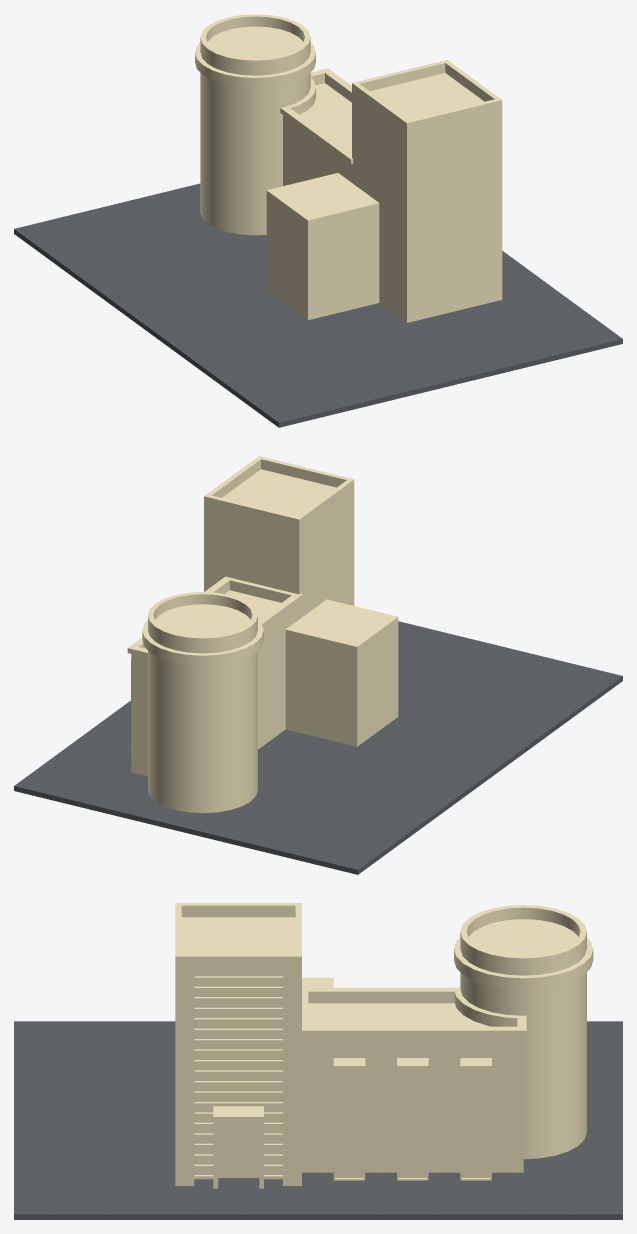
The picture shows the model from 3 angles, top to bottom: view 1: azimuth 30°, elevation 25°; view 2: azimuth 150°, elevation 25°; view 3: azimuth 270°, elevation 25°; orthographic projection. The views are drawn at different scales.
Parts seen in each view (by area): view 1: 19394, 16845, 16916, 16855, 16865; view 2: 19394, 16916, 16845, 16855, 16865; view 3: 19394, 16865, 16845, 16916, Component#2 (×3), 17632, 17606, 17608, 17610, 17611, 17612, 17613 (+4 smaller).
Part boxes in pixels (x1=…): 19394: x1=14, y1=183, x2=622, y2=427; 16845: x1=352, y1=60, x2=502, y2=322; 16916: x1=195, y1=14, x2=315, y2=235; 16855: x1=266, y1=173, x2=379, y2=320; 16865: x1=280, y1=68, x2=353, y2=185; 19394: x1=14, y1=621, x2=622, y2=874; 16916: x1=142, y1=592, x2=263, y2=813; 16845: x1=204, y1=456, x2=354, y2=619; 16855: x1=285, y1=599, x2=398, y2=746; 16865: x1=127, y1=576, x2=302, y2=776; 19394: x1=14, y1=1021, x2=622, y2=1219; 16865: x1=302, y1=987, x2=526, y2=1172; 16845: x1=175, y1=903, x2=301, y2=1185; 16916: x1=454, y1=905, x2=593, y2=1159; Component#2 (×3): x1=333, y1=1058, x2=491, y2=1180; 17632: x1=213, y1=1106, x2=263, y2=1188; 17606: x1=194, y1=1091, x2=282, y2=1095; 17608: x1=194, y1=1070, x2=282, y2=1074; 17610: x1=194, y1=1049, x2=282, y2=1053; 17611: x1=194, y1=1039, x2=282, y2=1043; 17612: x1=194, y1=1028, x2=282, y2=1032; 17613: x1=194, y1=1018, x2=282, y2=1022.
Size of the model in its own units: 14.42 by 8.2 by 19.24.
Materials: 390 (6 with a texture image).
